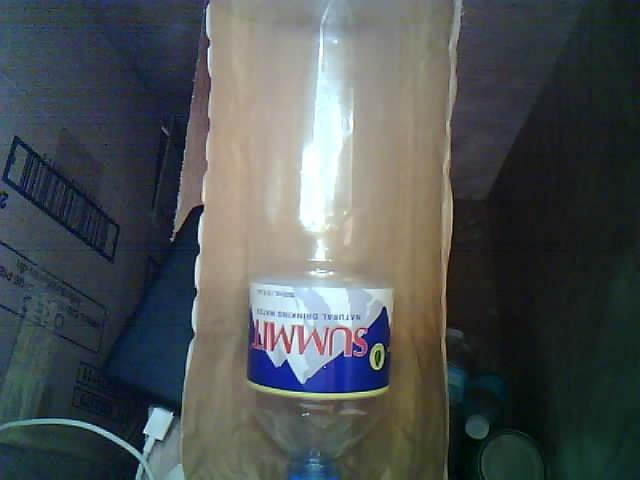large_bottle: (234, 0, 410, 480)
